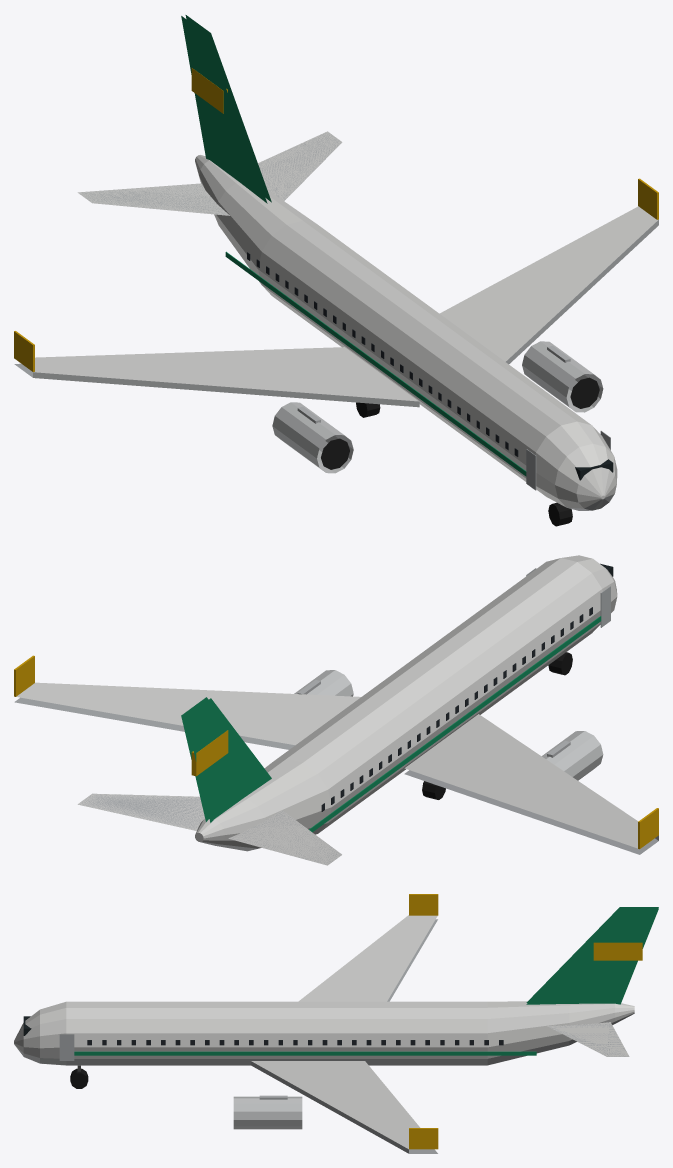
File: ns_jet.glb
The picture shows the model from 3 angles, top to bottom: view 1: azimuth 30°, elevation 25°; view 2: azimuth 150°, elevation 25°; view 3: azimuth 270°, elevation 25°; orthographic projection. The views are drawn at different scales.
Parts seen in each view (by area): view 1: ns_jet; view 2: ns_jet; view 3: ns_jet.
Boxes of the visible parts, <box> form: ns_jet: <box>14,15,658,526</box>; ns_jet: <box>14,555,658,865</box>; ns_jet: <box>14,894,658,1153</box>.
Bounding box in the file's own units: 34 × 12.07 × 39.5.
